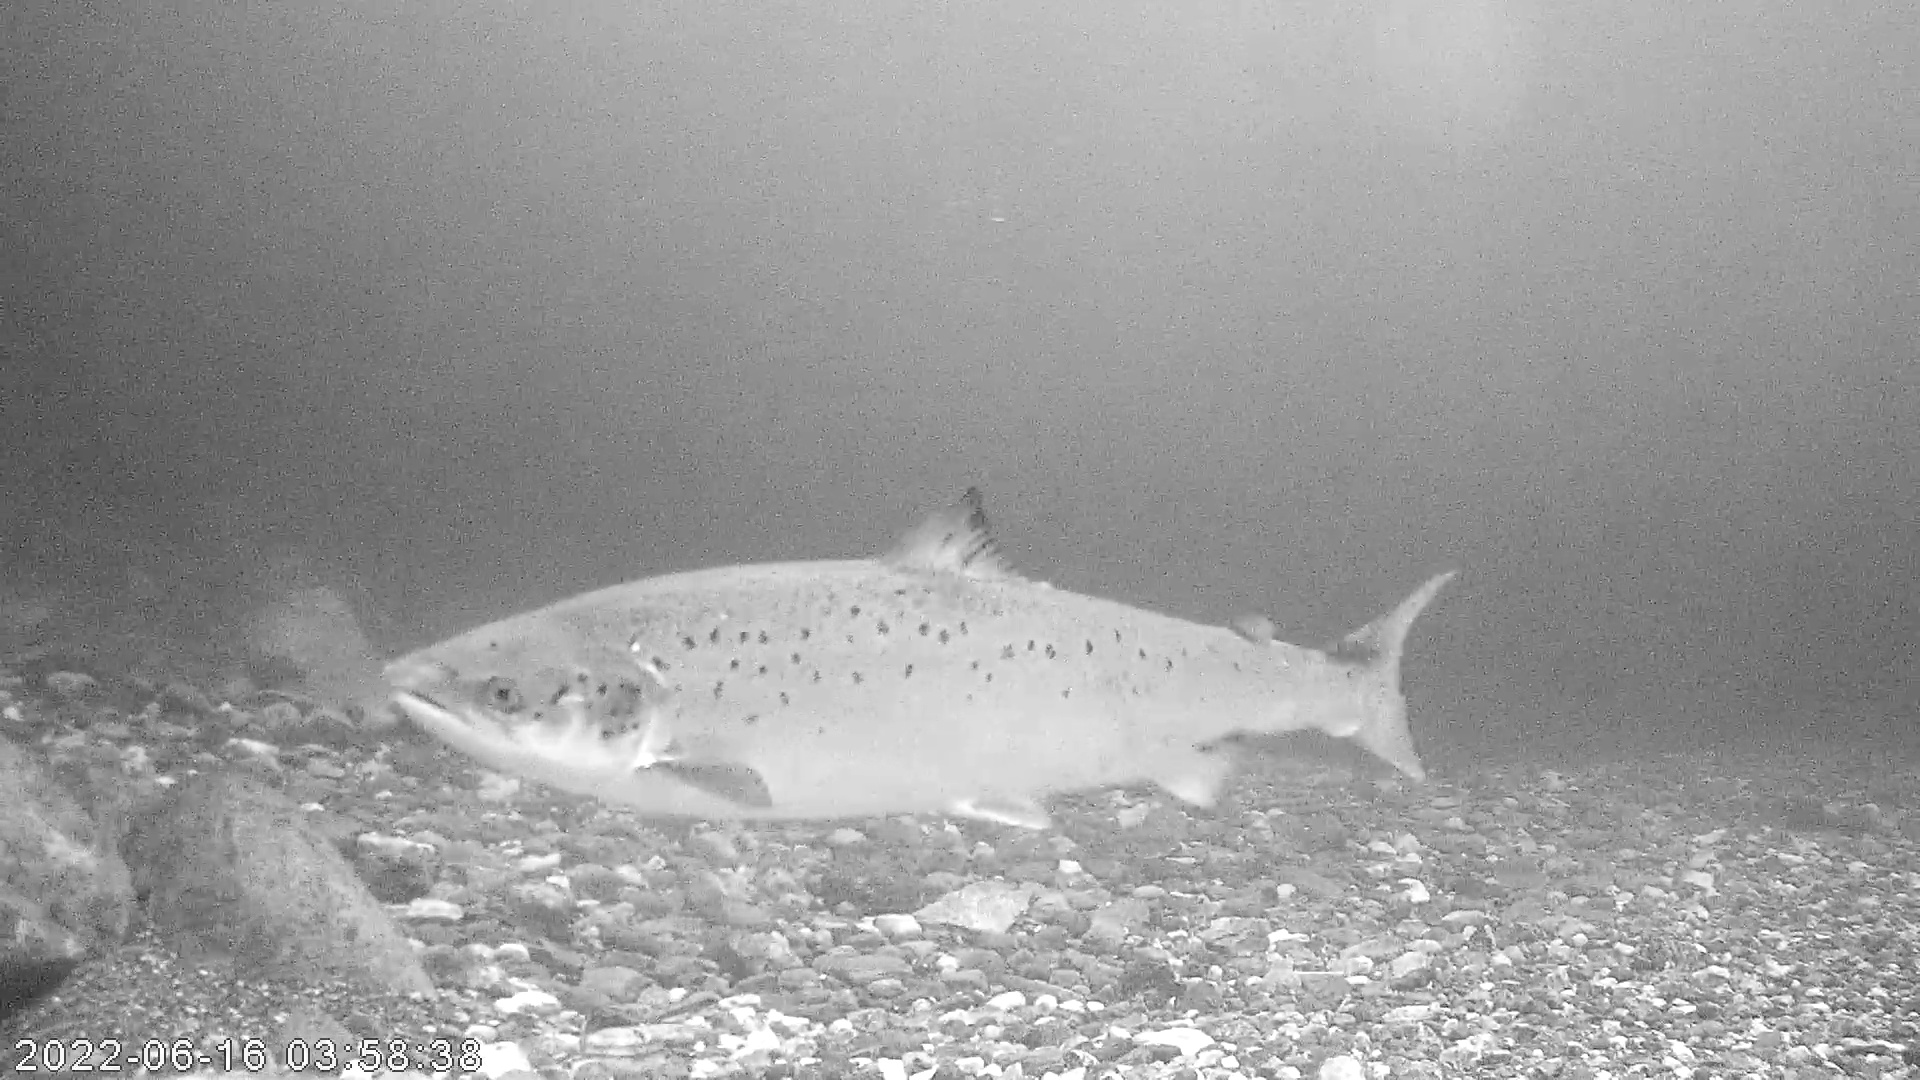salmon: (377, 484, 1465, 837)
